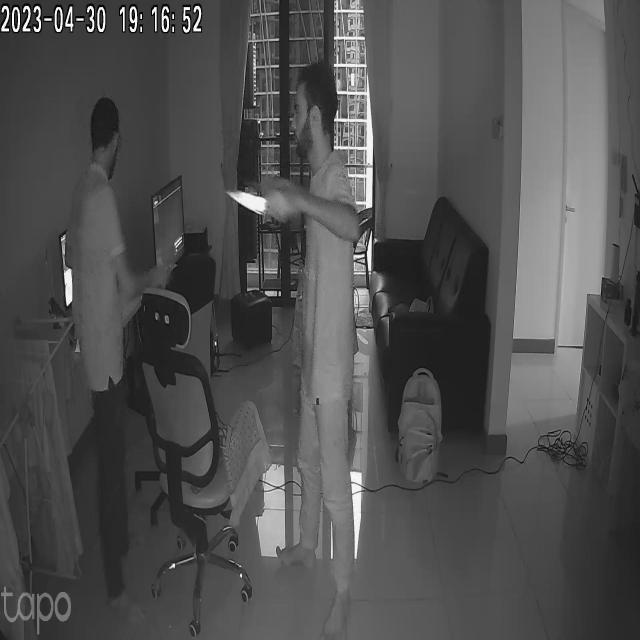Knife: (222, 178, 282, 224)
